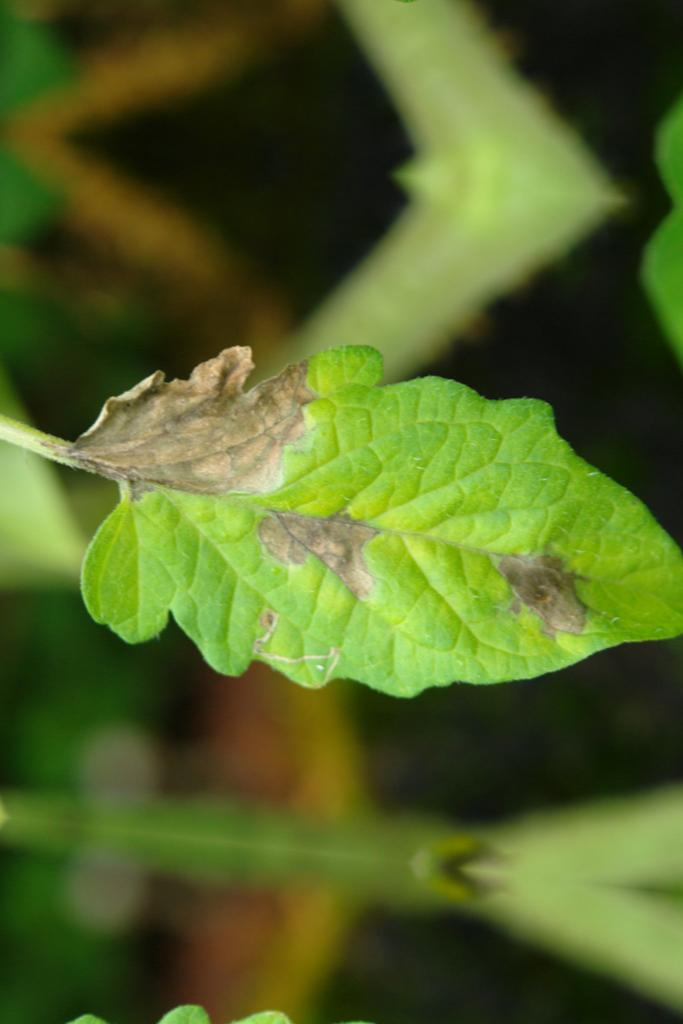Tomato leaf late blight: (46, 305, 683, 748)
